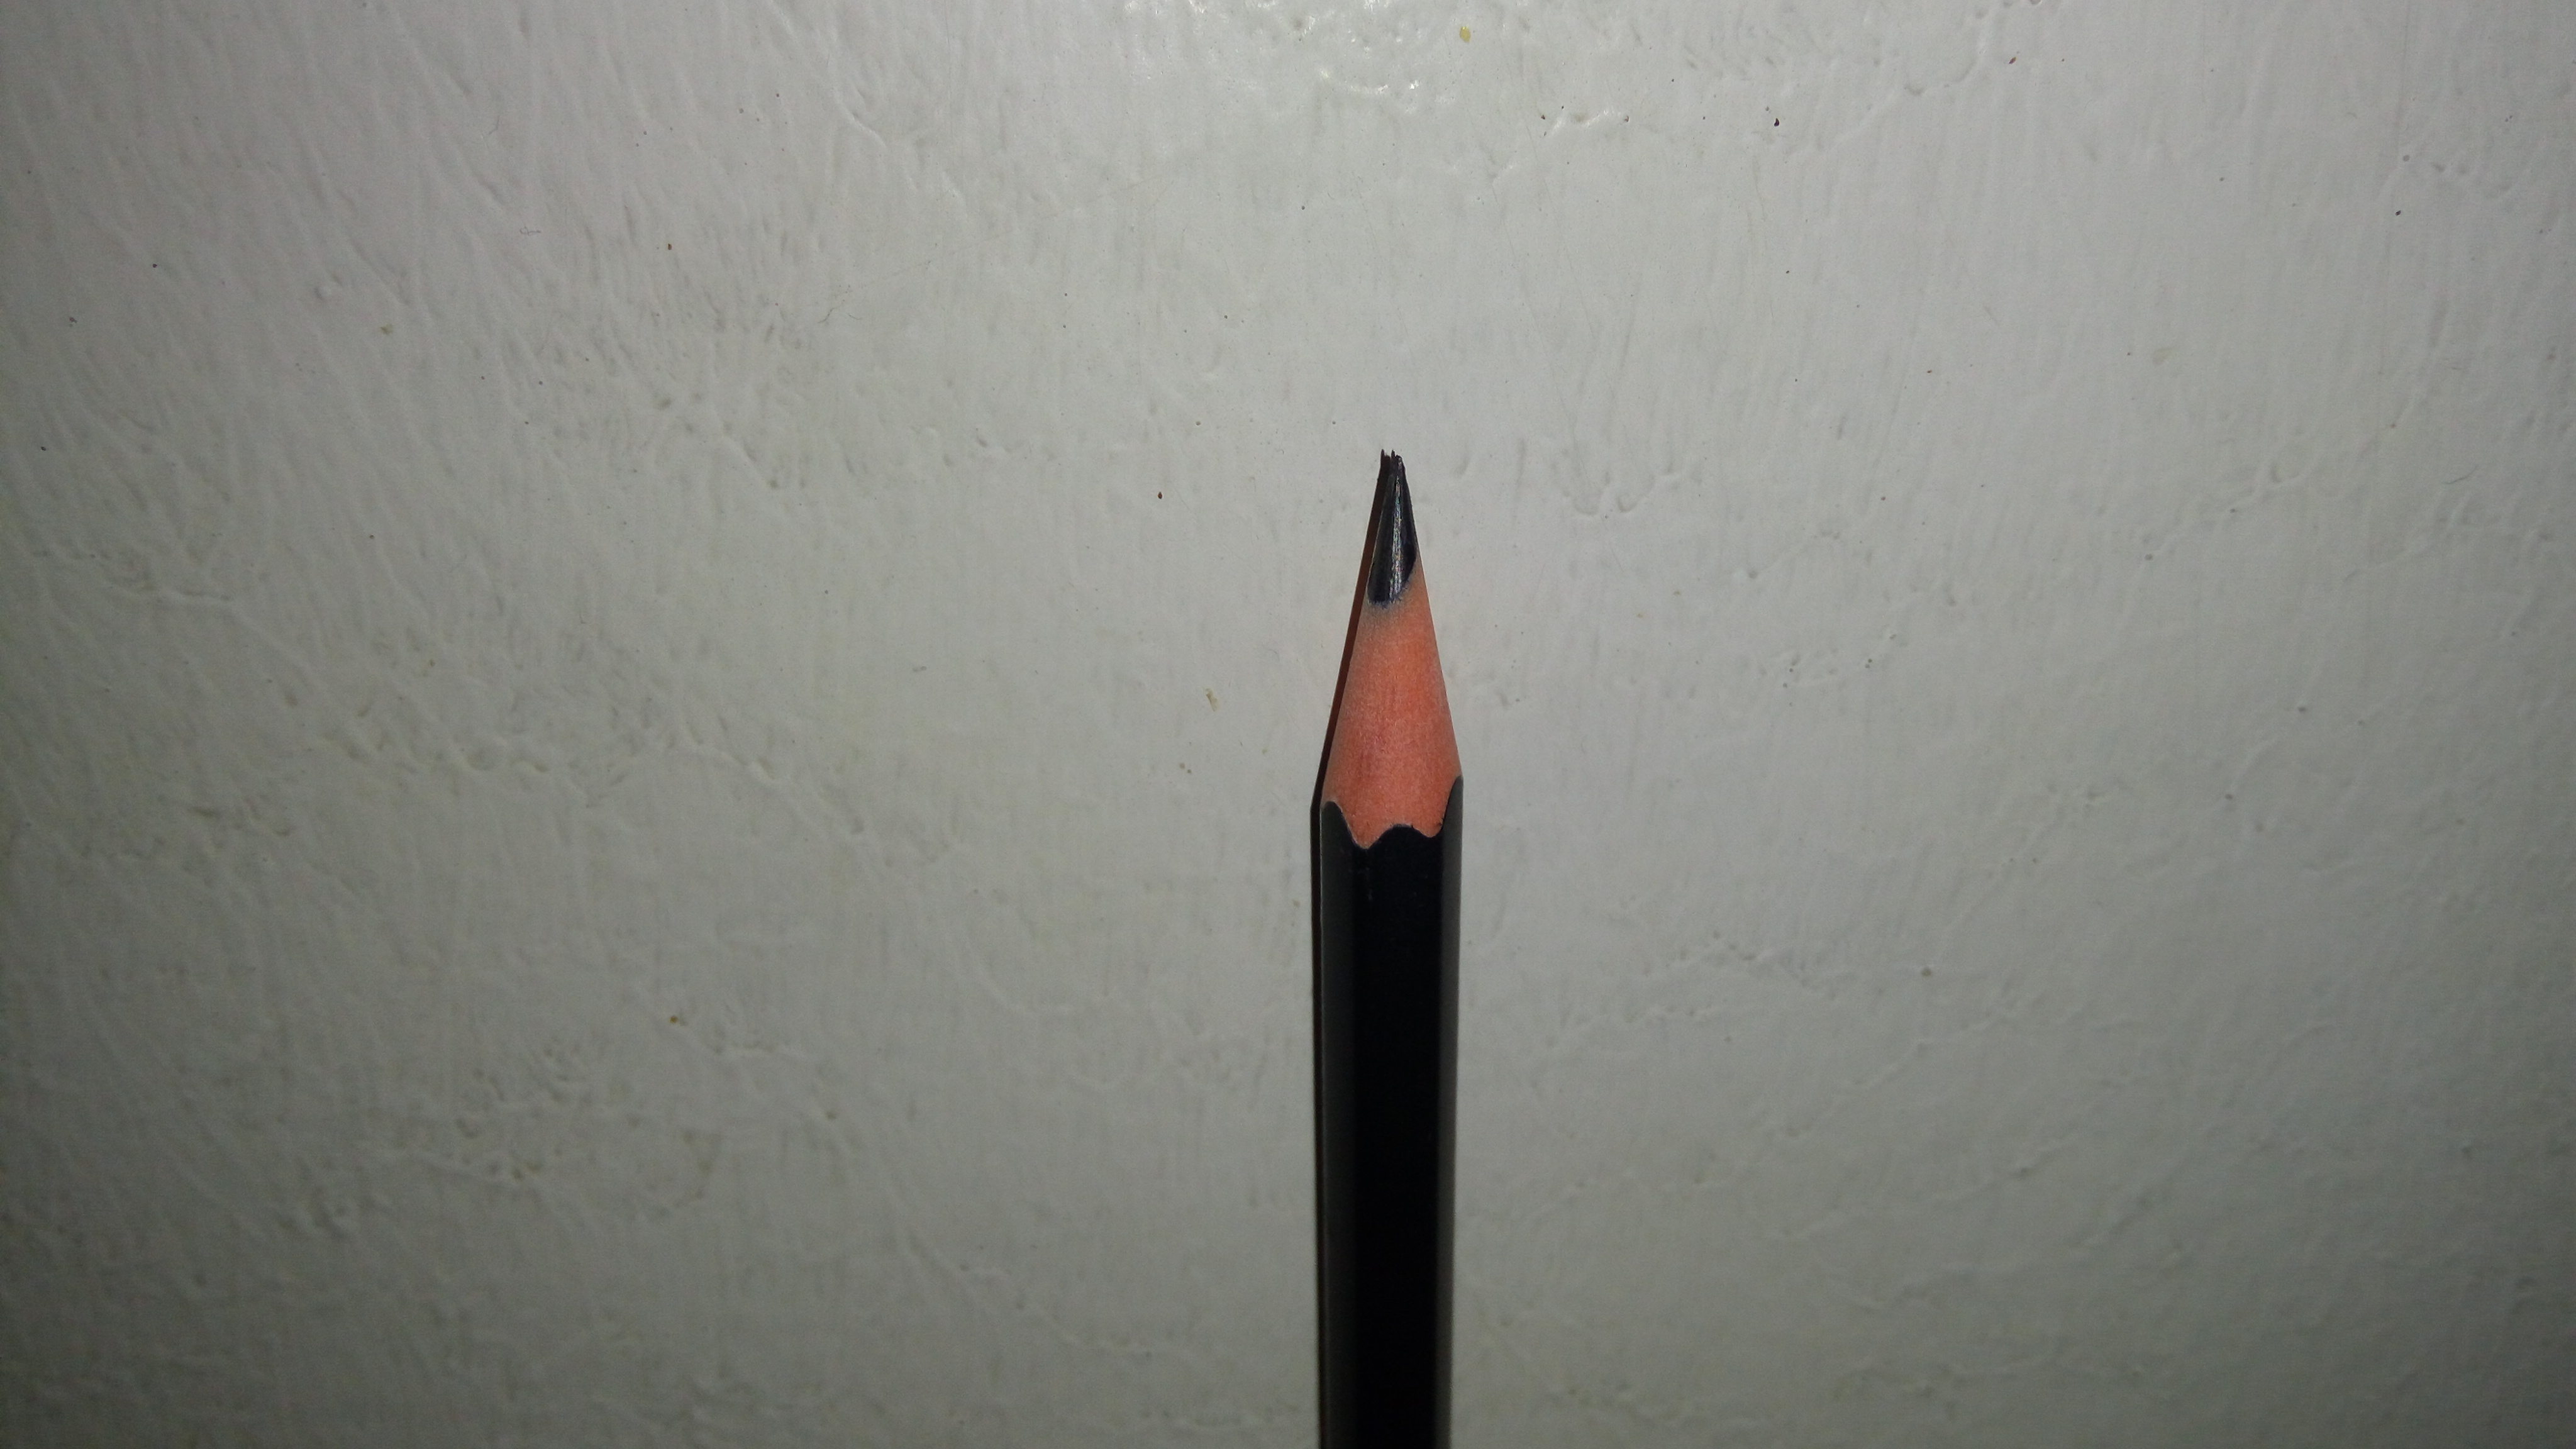pen_tip: (1173, 405, 1654, 968)
